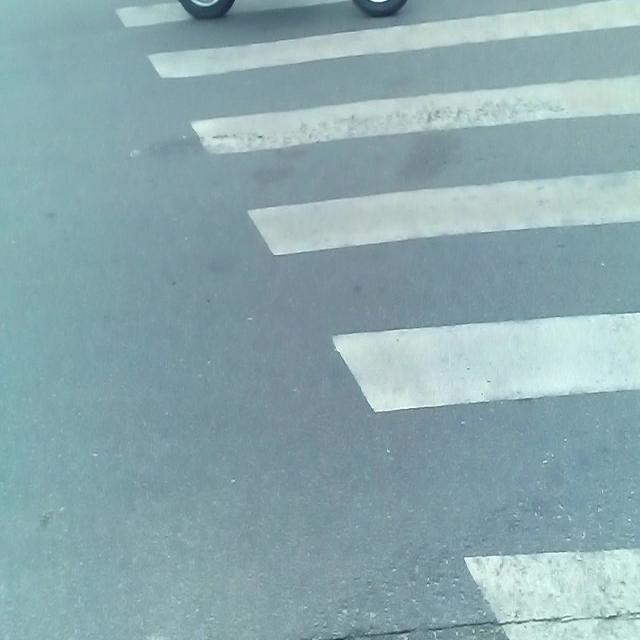crosswalk: (105, 0, 640, 640)
